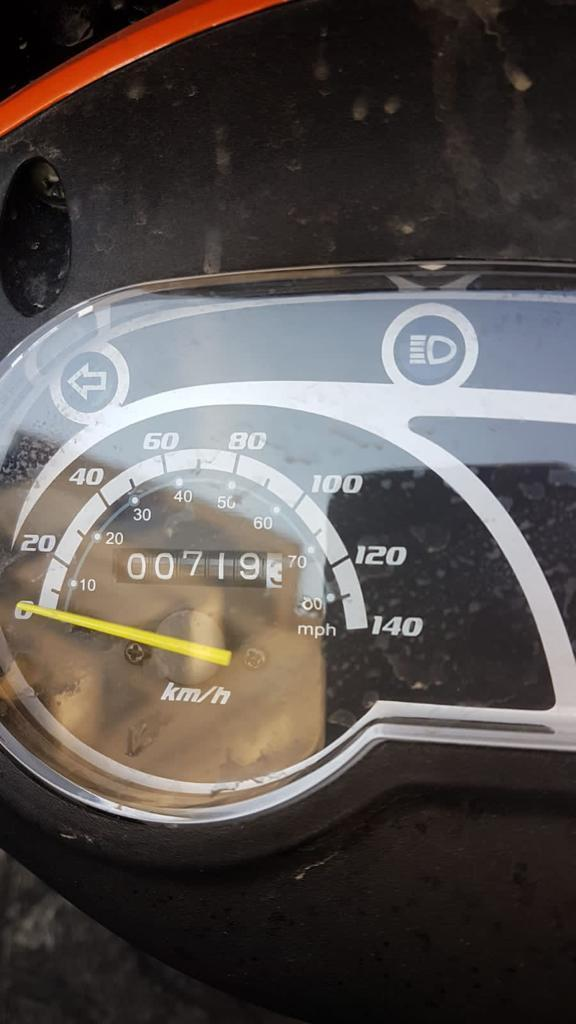0: (154, 552, 174, 580), (127, 552, 146, 580)
1: (217, 552, 224, 580)
3: (270, 558, 286, 585)
7: (182, 550, 202, 576)
9: (239, 552, 259, 580)
odometer: (110, 545, 284, 590)
